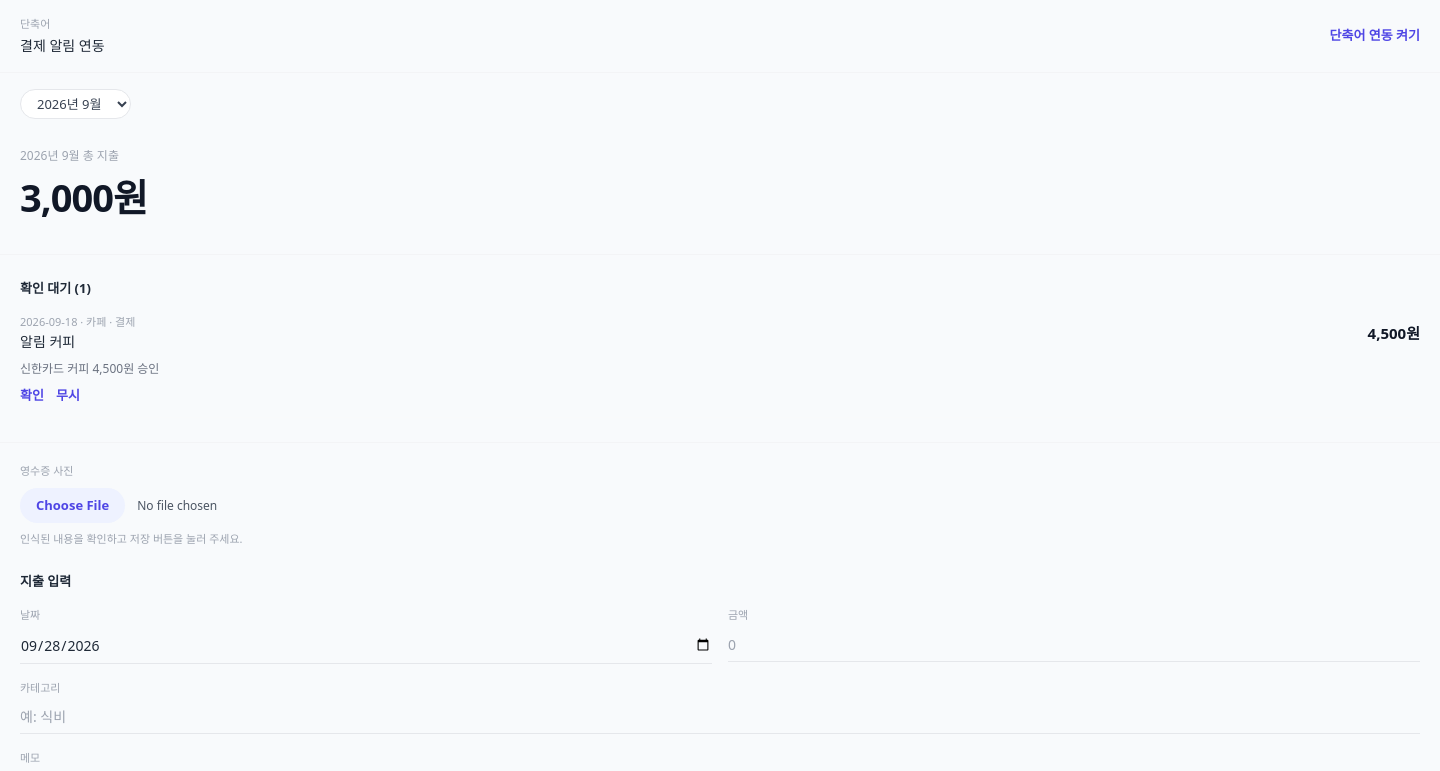
Test case: 대시보드 확인 대기 › 무시하면 대기 행만 삭제하고 확인 중인 폼과 목록을 초기화합니다
Click the button "확인" at (32, 395), box [20,386,44,405]
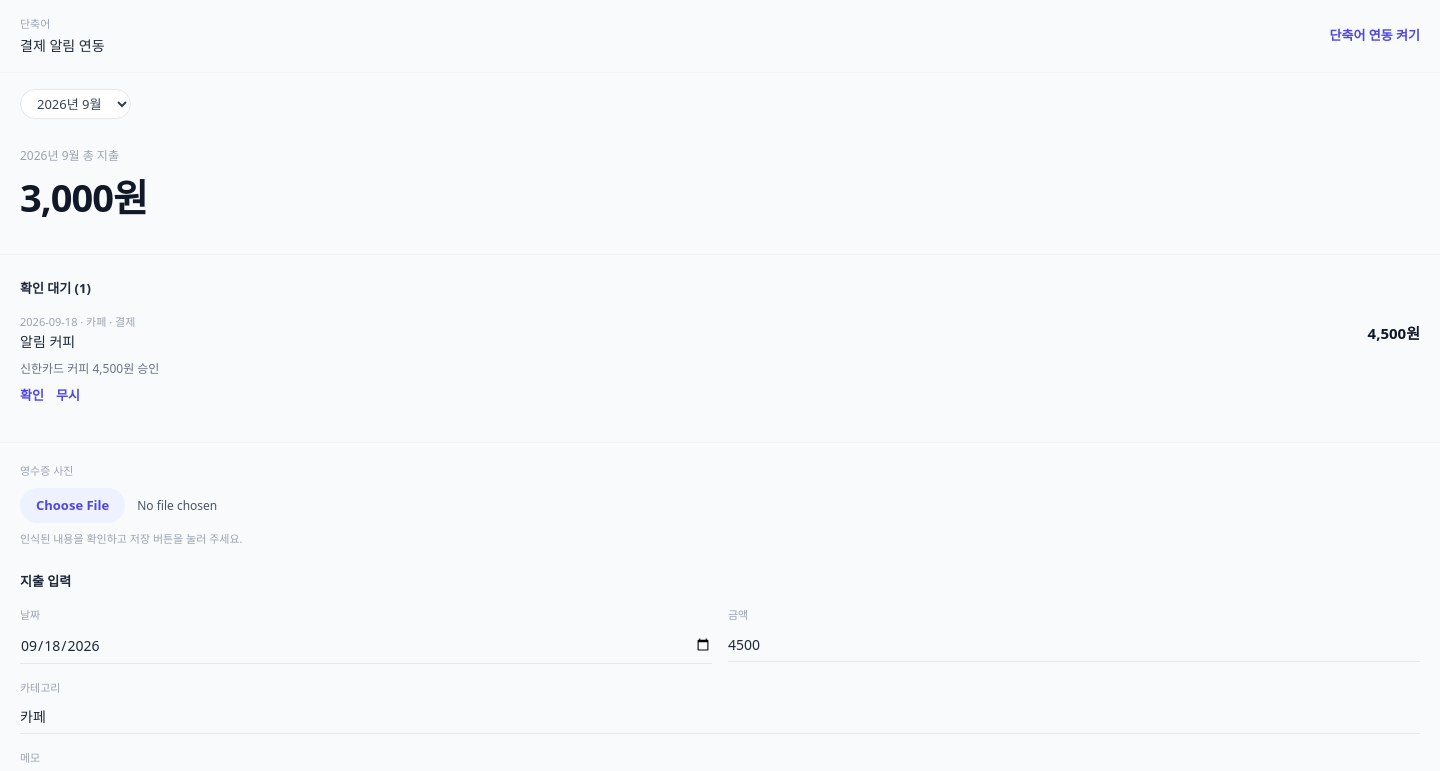
Click the button "무시" at (68, 395), box [56,386,80,405]
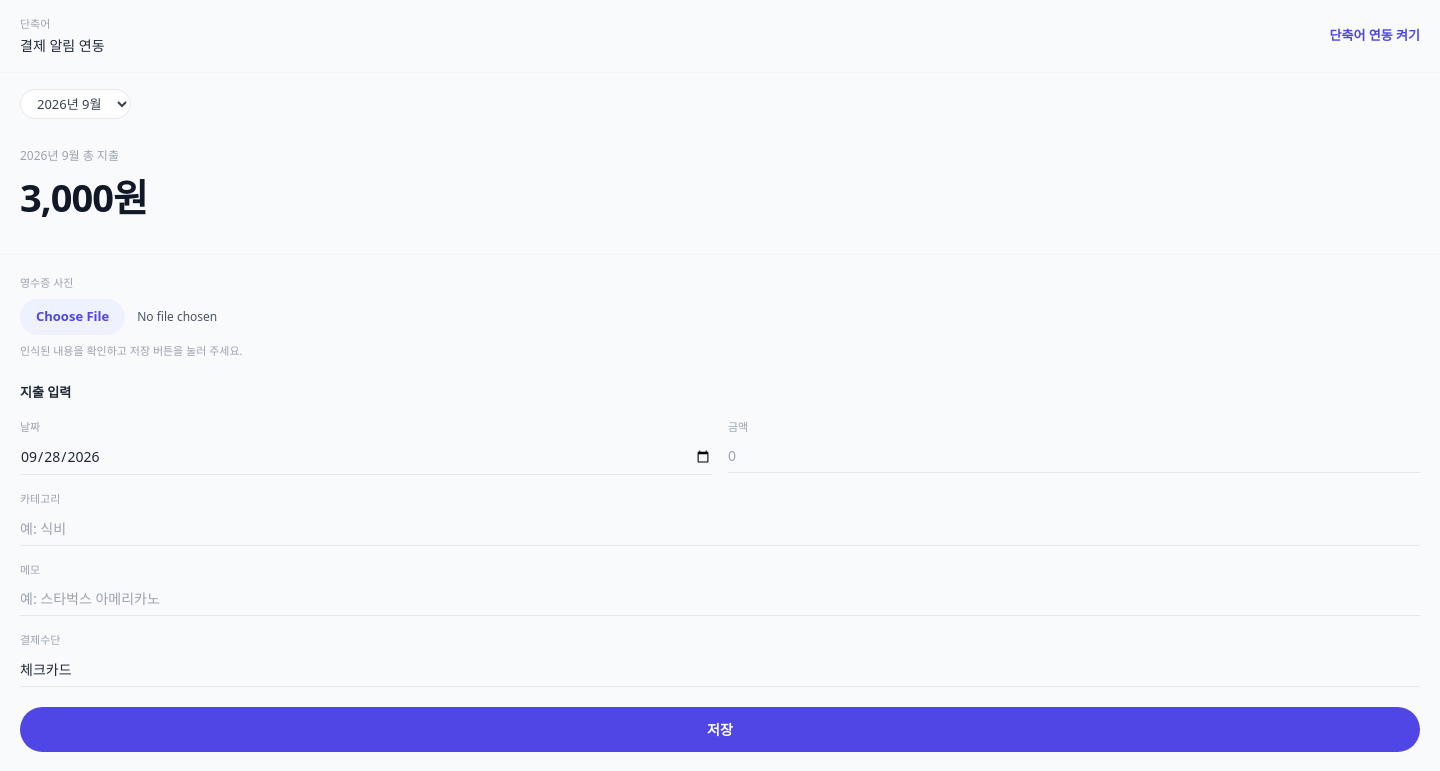
Result: the button "무시" is gone
Result: the field labelled "메모" is empty at [20,582,1420,616]
